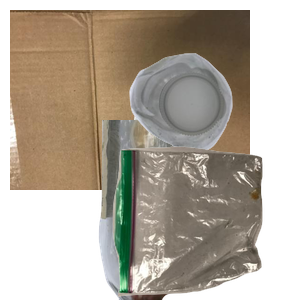cardboard: (10, 10, 250, 190)
glass: (96, 120, 283, 300)
plastic: (127, 51, 300, 197)
trash: (110, 144, 300, 300)
